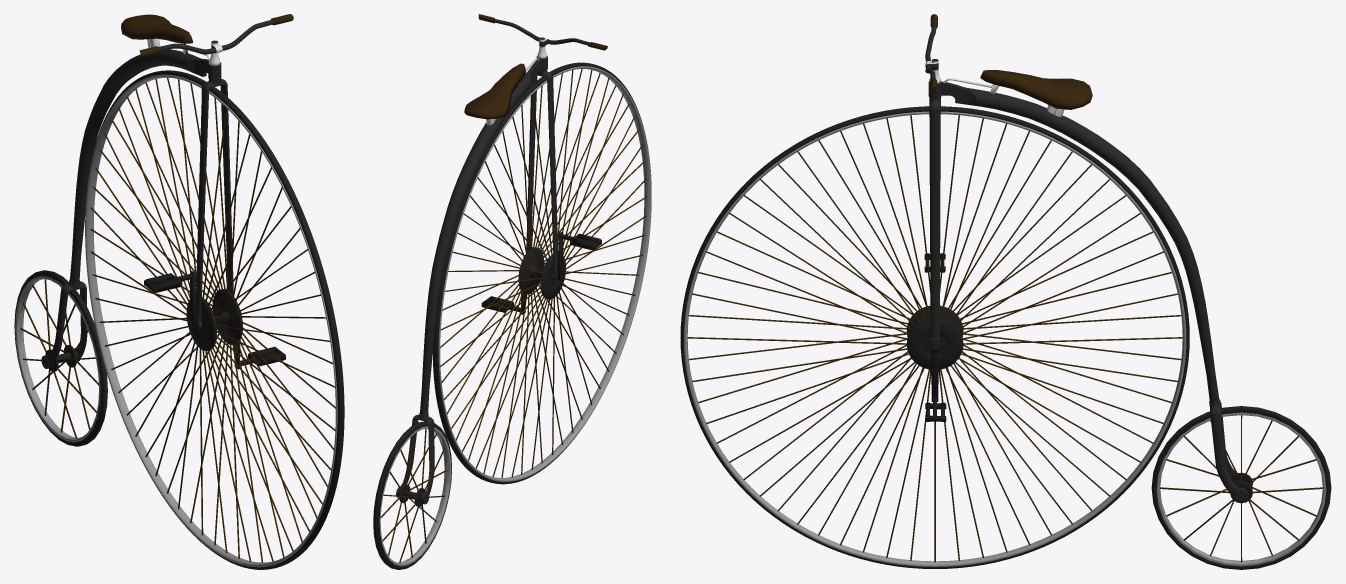
Rendered from PennyFarthing Bicycle.fbx.
3 renders of one model, left to right at view 1: azimuth 30°, elevation 25°; view 2: azimuth 150°, elevation 25°; view 3: azimuth 270°, elevation 25°, orthographic. The views are drawn at different scales.
Parts seen in each view (by area): view 1: FWheel, Body, RWheel, LowerFork, Seat, Handles, Crank, RPedal; view 2: FWheel, Body, RWheel, LowerFork, Seat, Handles, Crank; view 3: FWheel, Body, RWheel, LowerFork, Seat.
Part boxes in pixels (x1=…): FWheel: x1=85, y1=70, x2=344, y2=569; Body: x1=41, y1=38, x2=221, y2=368; RWheel: x1=14, y1=270, x2=107, y2=446; LowerFork: x1=196, y1=78, x2=233, y2=329; Seat: x1=121, y1=14, x2=192, y2=43; Handles: x1=139, y1=14, x2=293, y2=65; Crank: x1=148, y1=271, x2=278, y2=369; RPedal: x1=144, y1=273, x2=182, y2=292; FWheel: x1=432, y1=62, x2=651, y2=484; Body: x1=396, y1=56, x2=547, y2=504; RWheel: x1=373, y1=421, x2=451, y2=569; LowerFork: x1=526, y1=70, x2=558, y2=281; Seat: x1=464, y1=63, x2=525, y2=119; Handles: x1=478, y1=14, x2=607, y2=58; Crank: x1=488, y1=232, x2=598, y2=314; FWheel: x1=680, y1=106, x2=1189, y2=568; Body: x1=928, y1=78, x2=1248, y2=501; RWheel: x1=1151, y1=406, x2=1331, y2=569; LowerFork: x1=929, y1=97, x2=940, y2=349; Seat: x1=980, y1=70, x2=1092, y2=109.
Bounding box in the file's own units: 55.51 × 181 × 206.
